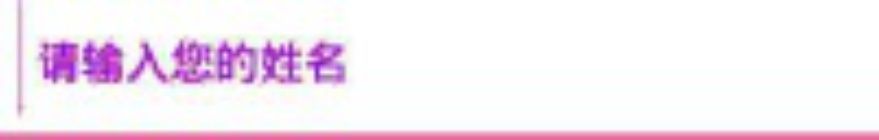EditText: (1, 1, 878, 139)
